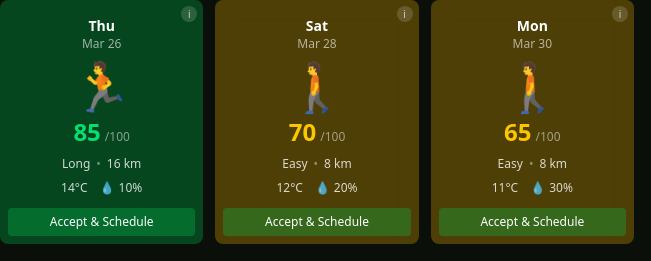
Test: RunSuggestions › accept functionality › shows generic error message on other errors
Click the button with test id "accept-button" at (102, 222), box [8,208,195,236]
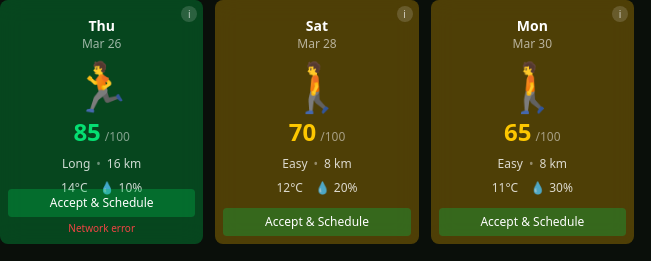
Now the text "Network error" is shown, box [68,221,135,236]
Now the text with test id "accept-error" reads "Network error", box [68,221,135,235]
